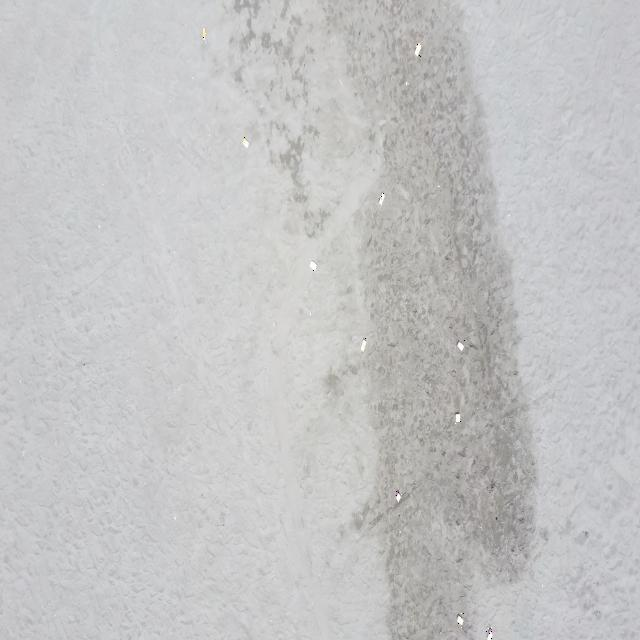Garbage: (360, 337, 366, 352), (308, 260, 316, 271), (456, 340, 464, 351), (456, 612, 463, 624), (415, 43, 422, 55), (200, 27, 206, 40), (241, 136, 247, 147), (379, 192, 384, 204), (396, 488, 400, 502), (455, 412, 460, 423), (487, 628, 492, 639)
